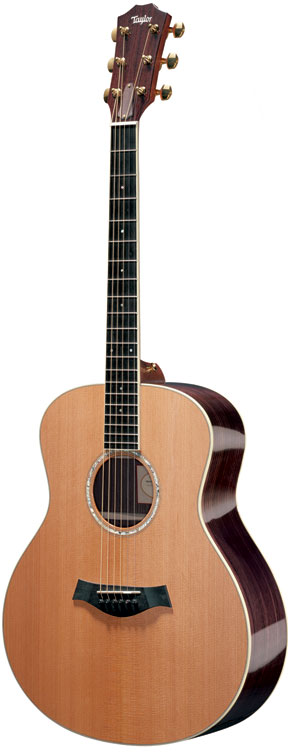guitar: (1, 2, 287, 752)
